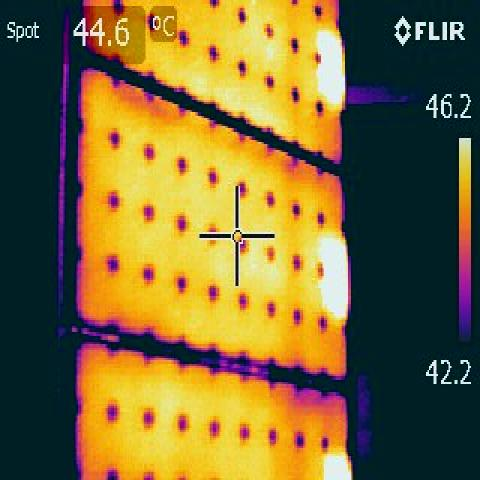fault: (316, 236, 350, 318), (313, 28, 345, 110), (322, 452, 352, 480)
